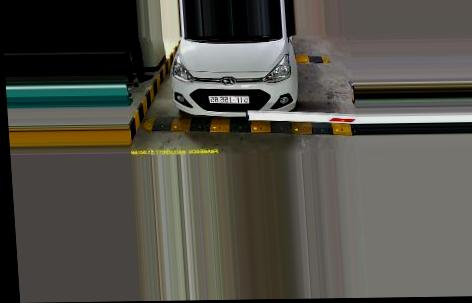License_Plate: (207, 93, 249, 106)
